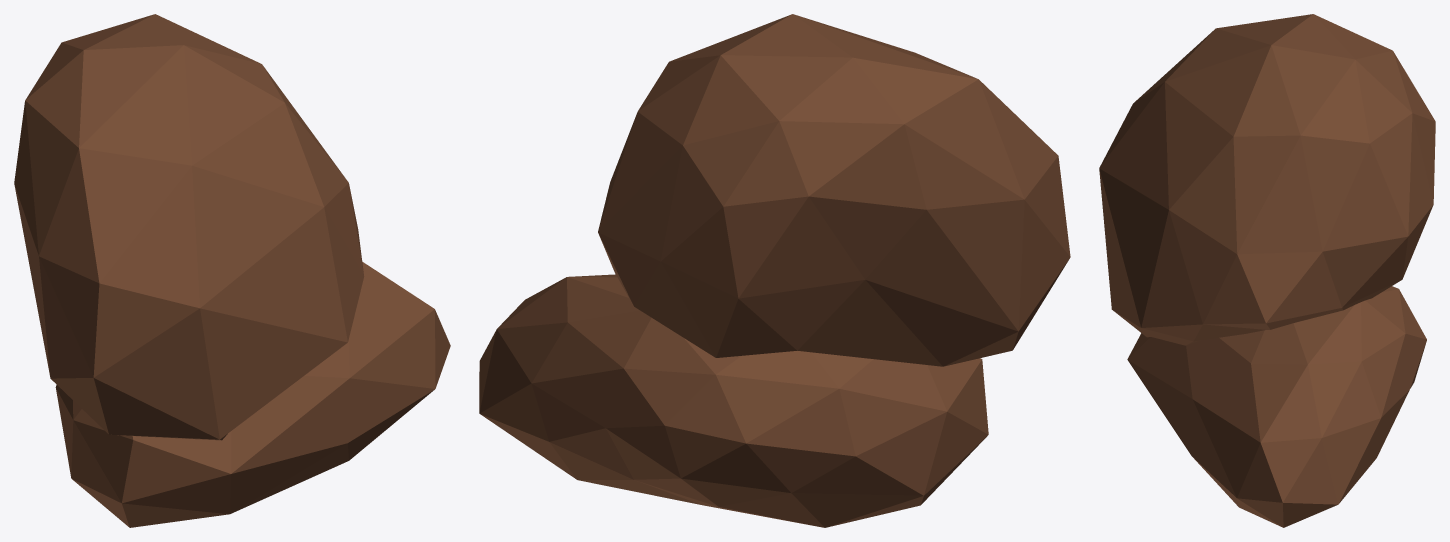
Rendered from Brown_rock1.fbx.
The picture shows the model from 3 angles, left to right: view 1: azimuth 30°, elevation 25°; view 2: azimuth 150°, elevation 25°; view 3: azimuth 270°, elevation 25°; orthographic projection. The views are drawn at different scales.
Visible parts, largest first — view 1: BrownRock1; view 2: BrownRock1; view 3: BrownRock1.
Boxes of the visible parts, x1,y1,x2,y2 form: BrownRock1: (14,14,450,527); BrownRock1: (479,14,1070,527); BrownRock1: (1099,14,1435,527).
Size of the model in its own units: 1480 by 1405 by 1060.
